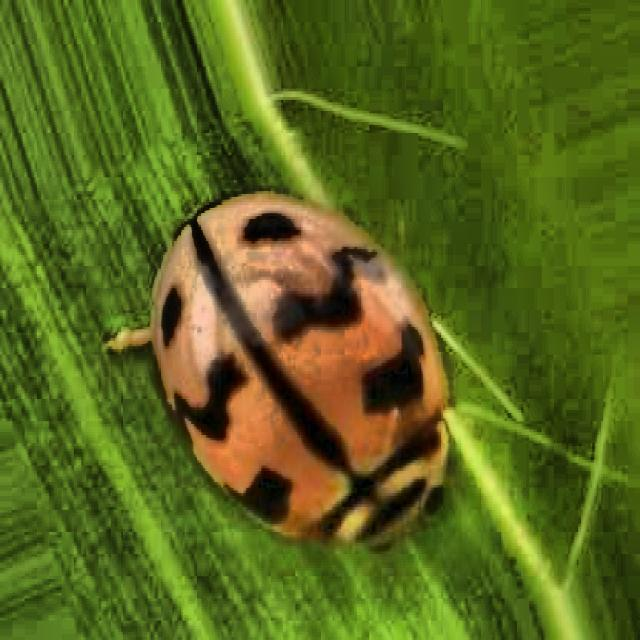Asian-Lady-beetle: (84, 94, 486, 617)
